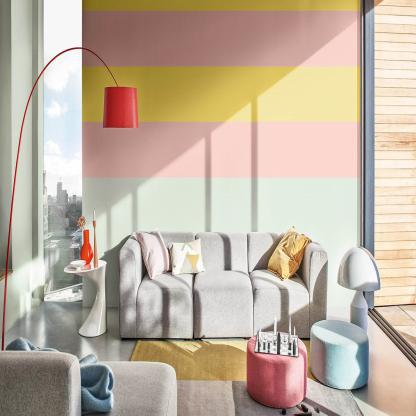bantal: (271, 230, 305, 278), (139, 232, 168, 274), (169, 242, 205, 273)
lampu: (96, 73, 142, 131)
sova: (117, 225, 329, 350)
